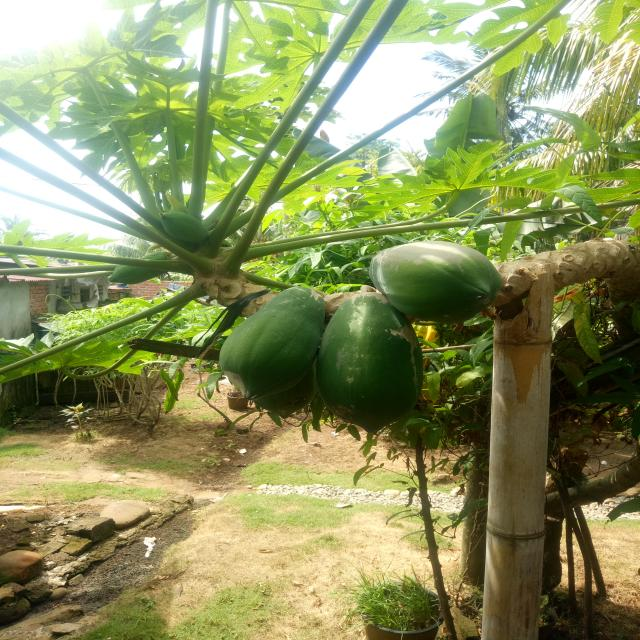Pepaya unrippen: (323, 294, 422, 438), (221, 287, 314, 419), (371, 244, 500, 325)
